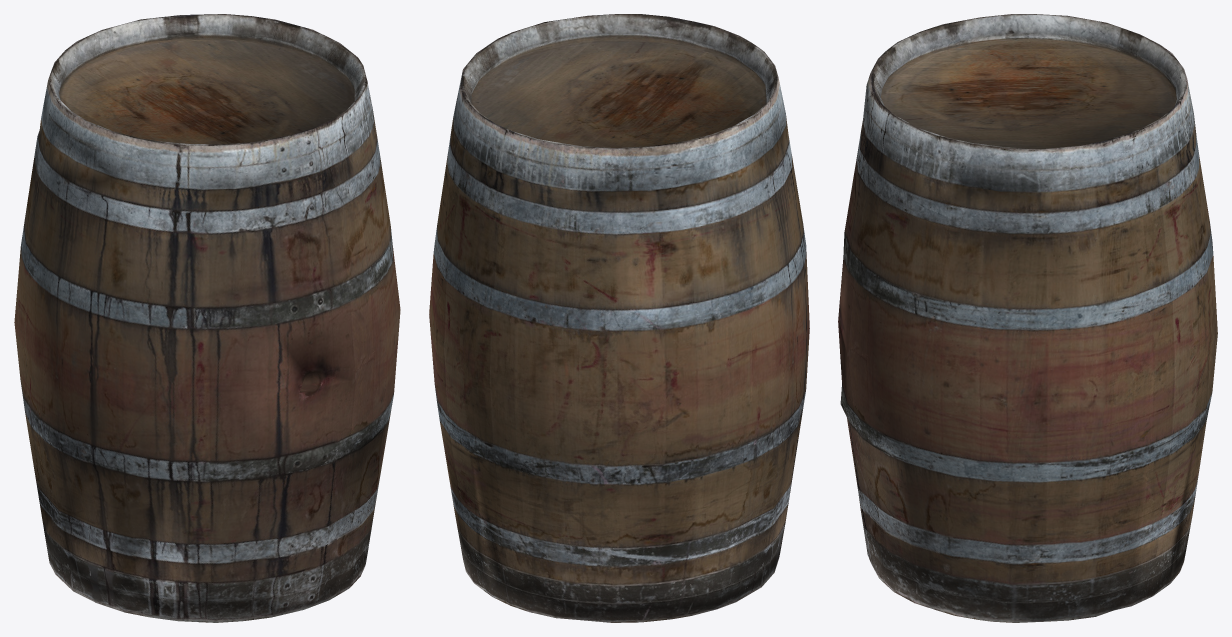
Rendered from wooden_barrel_tmgpcg2fa_low.glb.
The picture shows the model from 3 angles, left to right: view 1: azimuth 30°, elevation 25°; view 2: azimuth 150°, elevation 25°; view 3: azimuth 270°, elevation 25°; orthographic projection.
Visible parts, largest first — view 1: tmgpcg2fa_LOD0_TIER3_000; view 2: tmgpcg2fa_LOD0_TIER3_000; view 3: tmgpcg2fa_LOD0_TIER3_000.
Part boxes in pixels (bbox=[...]): tmgpcg2fa_LOD0_TIER3_000: bbox=[14, 14, 400, 622]; tmgpcg2fa_LOD0_TIER3_000: bbox=[429, 14, 809, 622]; tmgpcg2fa_LOD0_TIER3_000: bbox=[838, 14, 1217, 622].
Bounding box in the file's own units: 0.7011 × 0.967 × 0.6973.
1 material, 1 textured.
